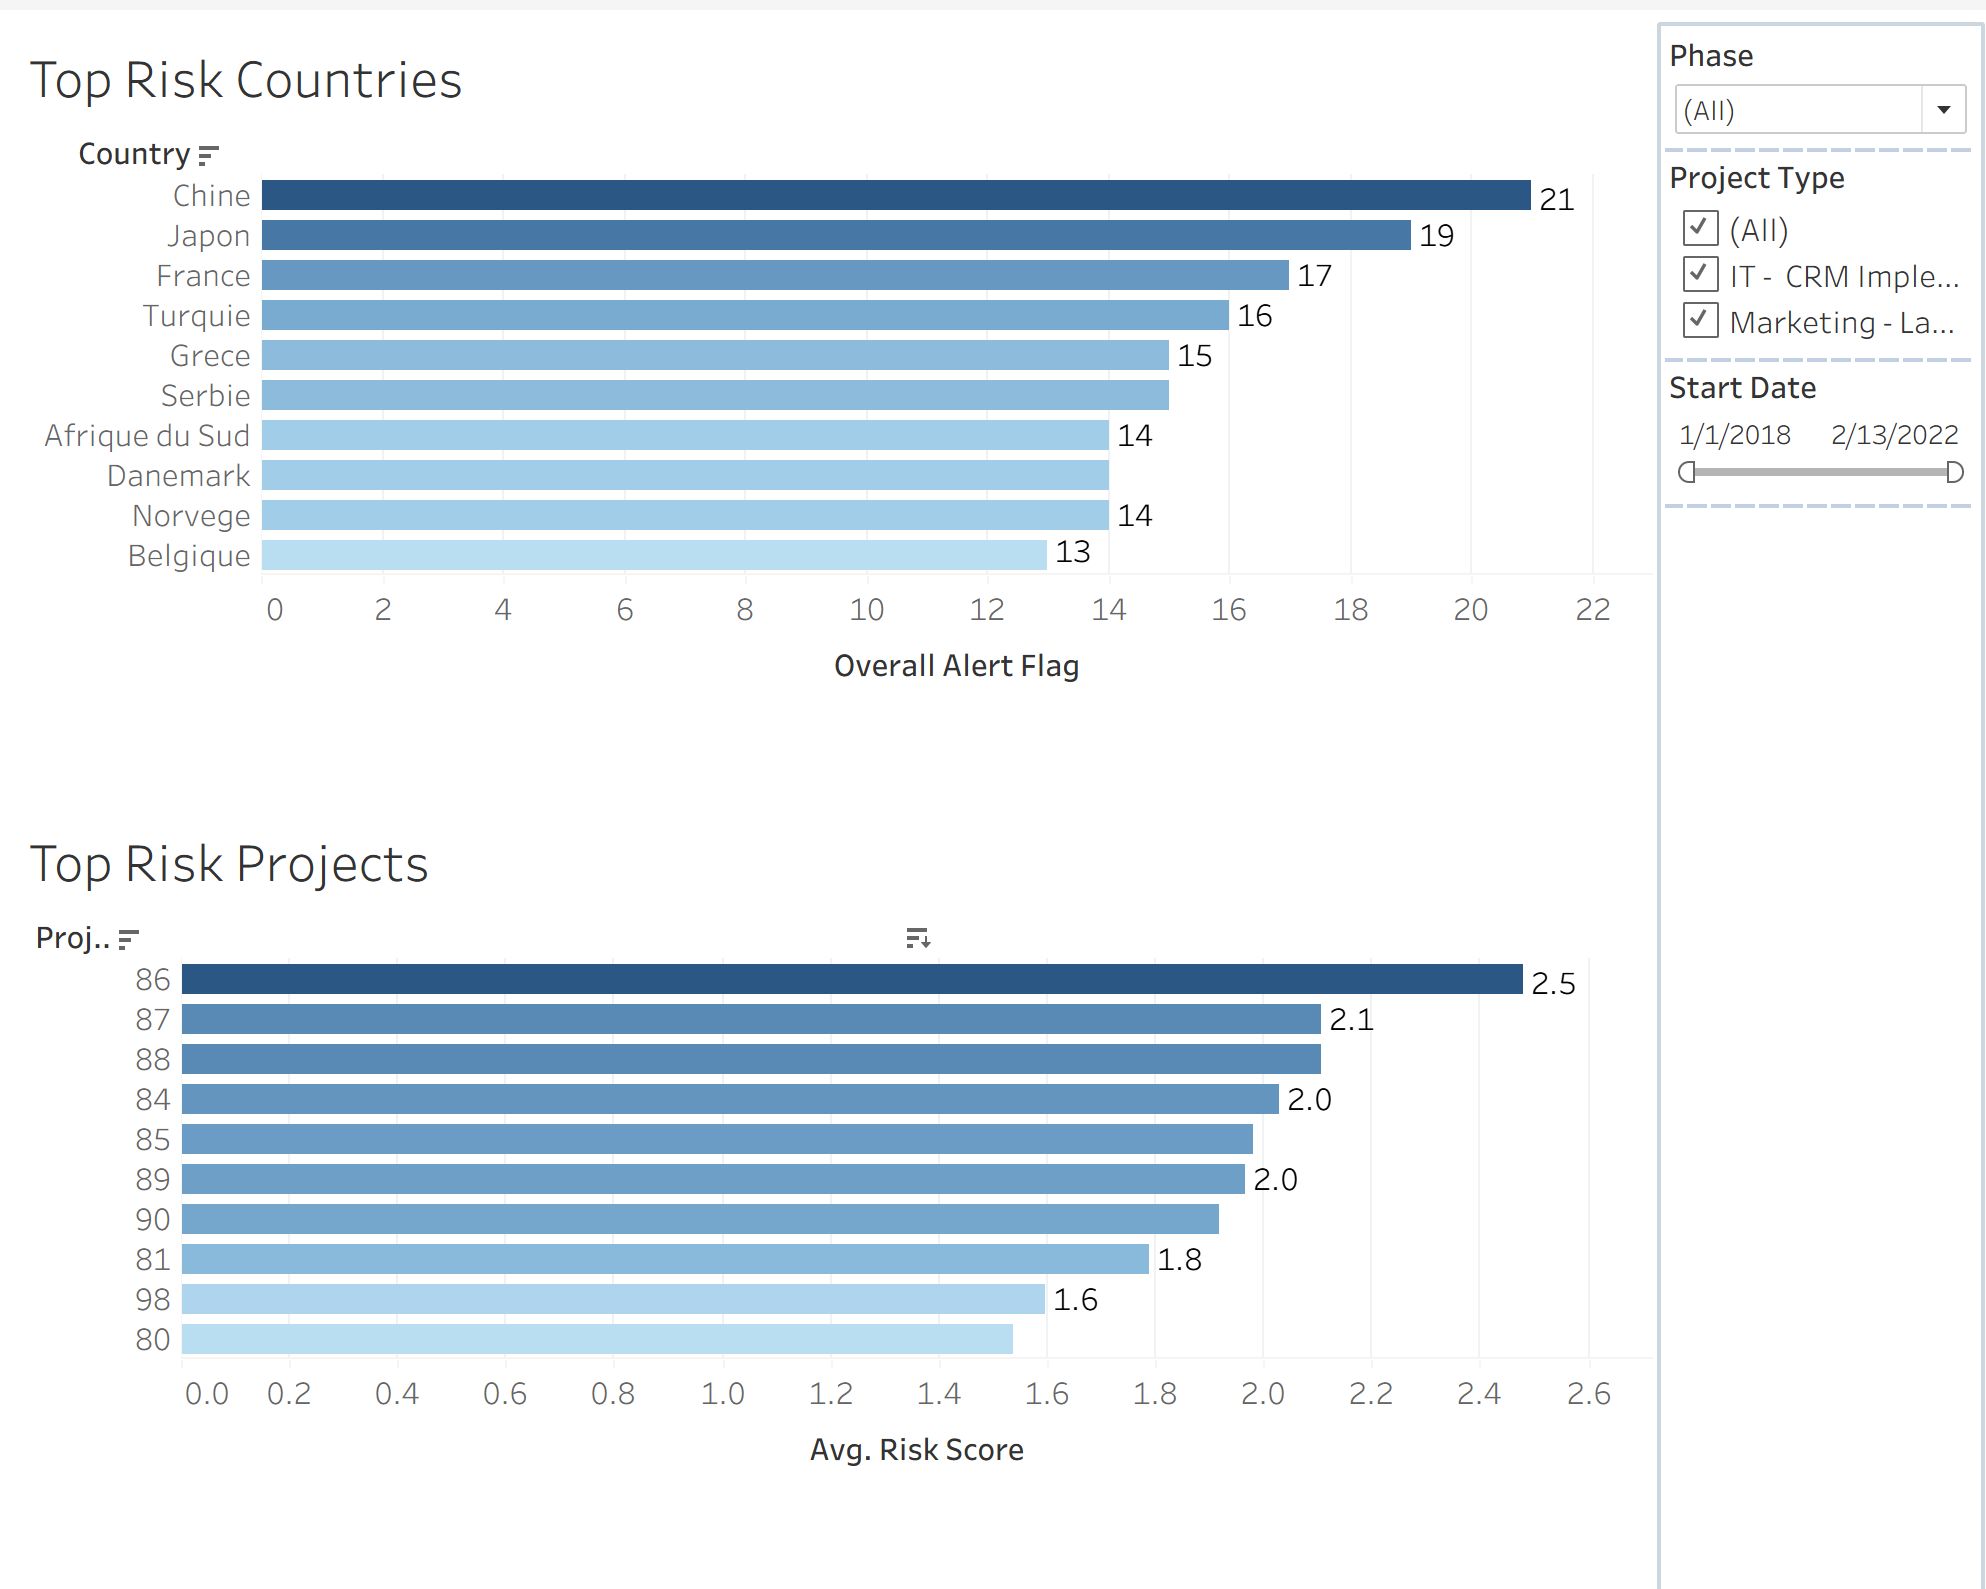

The page's visual inventory and layout, read from the dashboard file:
{"tool":"tableau","page":{"name":"High-Risk Projects & Countries","canvas":[1000,800],"ordinal":1},"visuals":[{"type":"worksheet","title":"Top Risk Countries","mark":"Automatic","rows":["Country"],"cols":["Calculation_4064355571425291"],"box":[8,8,824,392]},{"type":"filter","title":"Top Risk Countries","param":"[federated.1jhwhhq11yij8e1dcoscd0796l0g].[none:Phase:nk]","box":[832,8,160,61]},{"type":"filter","title":"Top Risk Countries","param":"[federated.1jhwhhq11yij8e1dcoscd0796l0g].[none:Project Type:nk]","box":[832,69,160,105]},{"type":"filter","title":"Top Risk Countries","param":"[federated.1jhwhhq11yij8e1dcoscd0796l0g].[none:Start Date:qk]","box":[832,174,160,73]},{"type":"worksheet","title":"Top Risk Projects","mark":"Automatic","rows":["Project ID"],"cols":["Calculation_4064355609165841"],"box":[8,400,824,392]}]}

Visuals, with their boxes in screenshot pixels (x1, y1, x2, y2), scaled from the page's 1000x800 canvas onto the 1986x1589 screenshot:
"Top Risk Countries" worksheet: left=16, top=16, right=1652, bottom=794
"Top Risk Countries" filter: left=1652, top=16, right=1970, bottom=137
"Top Risk Countries" filter: left=1652, top=137, right=1970, bottom=346
"Top Risk Countries" filter: left=1652, top=346, right=1970, bottom=491
"Top Risk Projects" worksheet: left=16, top=794, right=1652, bottom=1573
